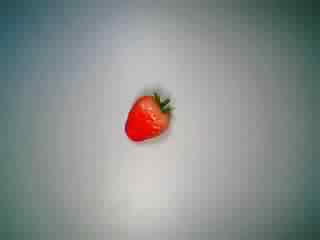strawberry: (114, 81, 182, 145)
